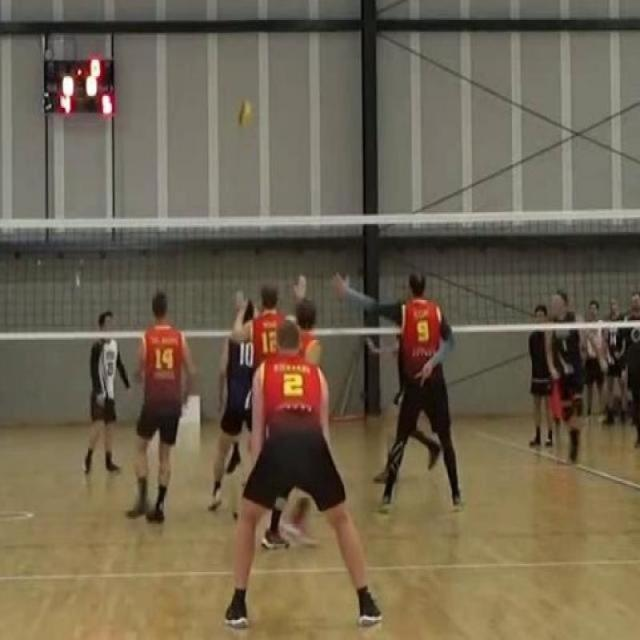volleyball: (230, 96, 256, 129)
